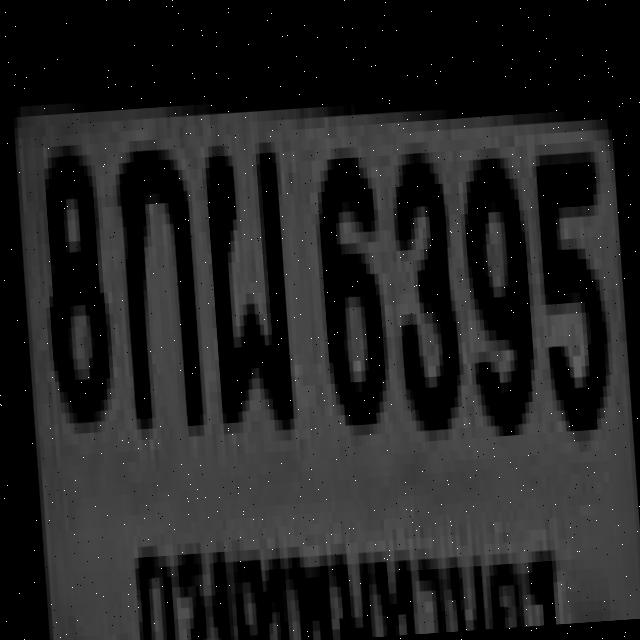10GorGai: (112, 138, 198, 418)
3: (384, 140, 458, 422)
37PhorPhueng: (200, 136, 290, 418)
5: (530, 140, 608, 422)
6: (311, 146, 384, 416)
8: (34, 133, 108, 414)
9: (456, 146, 534, 427)
